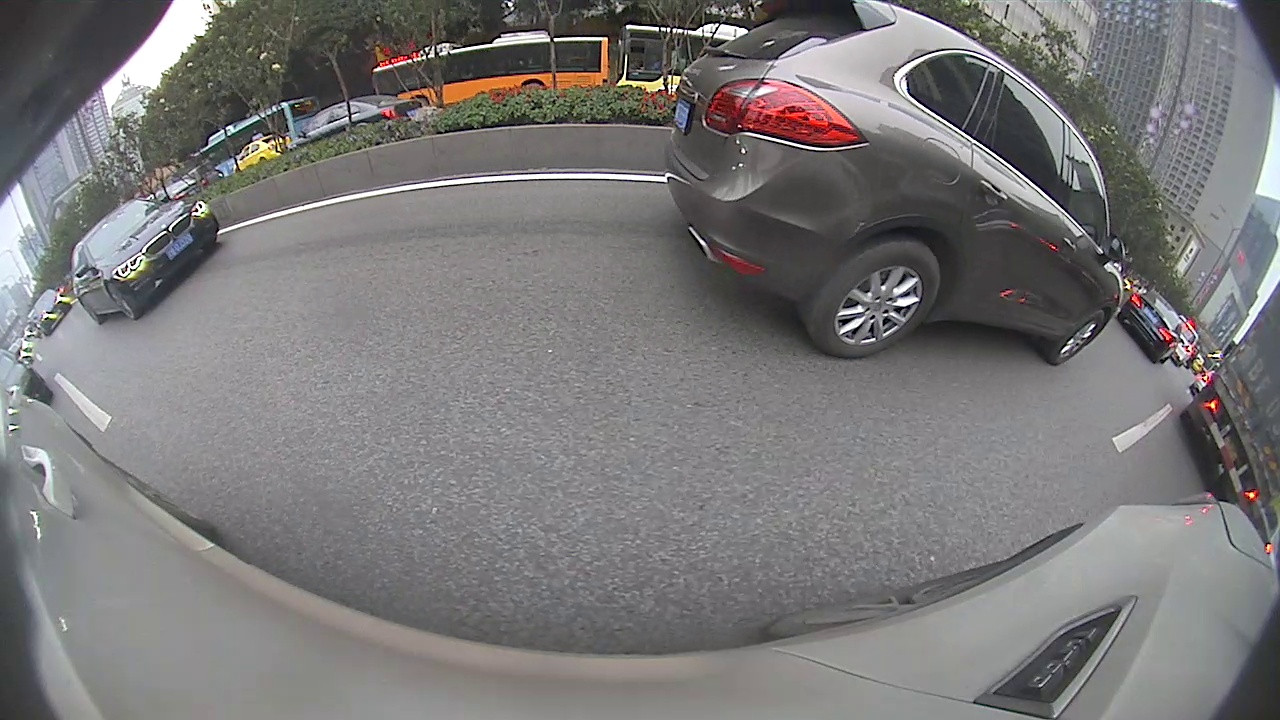car: (672, 1, 1124, 367), (61, 198, 224, 325), (1121, 291, 1184, 364)
front: (1051, 308, 1110, 366), (107, 281, 137, 320)
rear: (814, 242, 946, 362)
